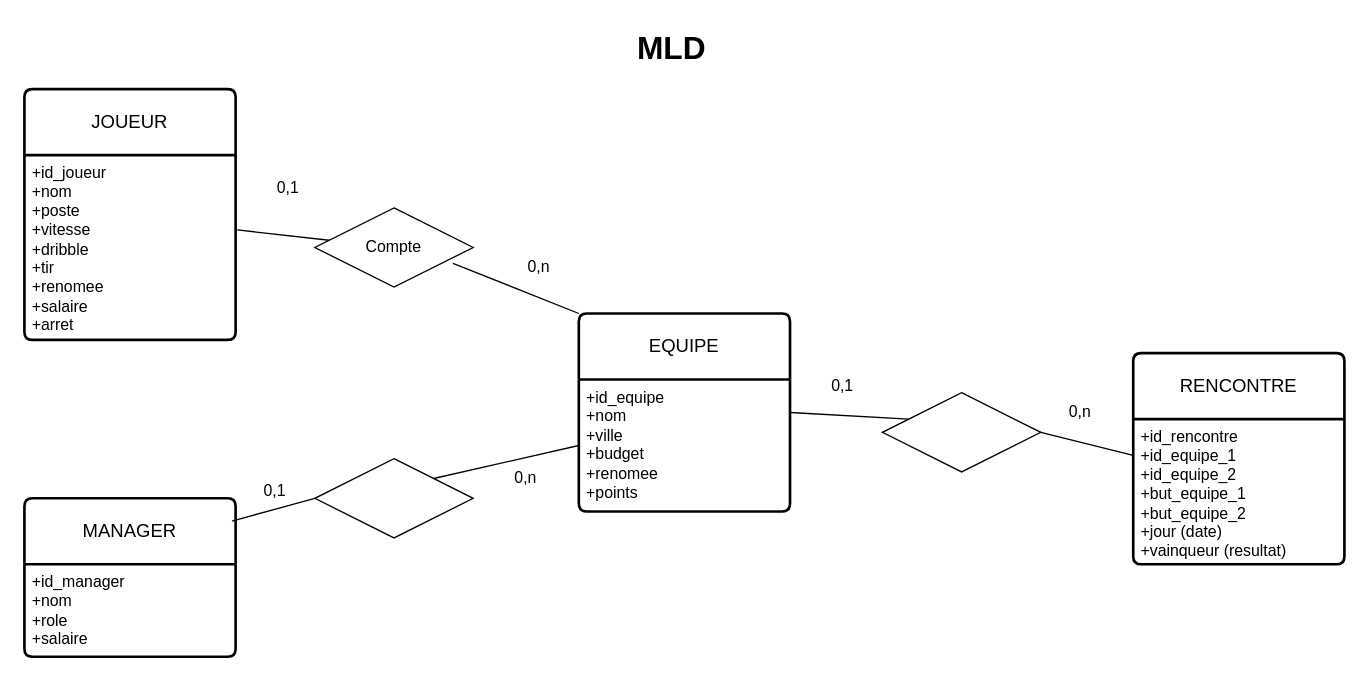
Some shapes in this 1368 by 680 pixel diagram are drawn without their labels. The shapes that lost their labels are listed below. From the top down, each one's centre as x and y in pixels, then its label:
pixel 961 431: Dispute
pixel 393 497: Comprend
